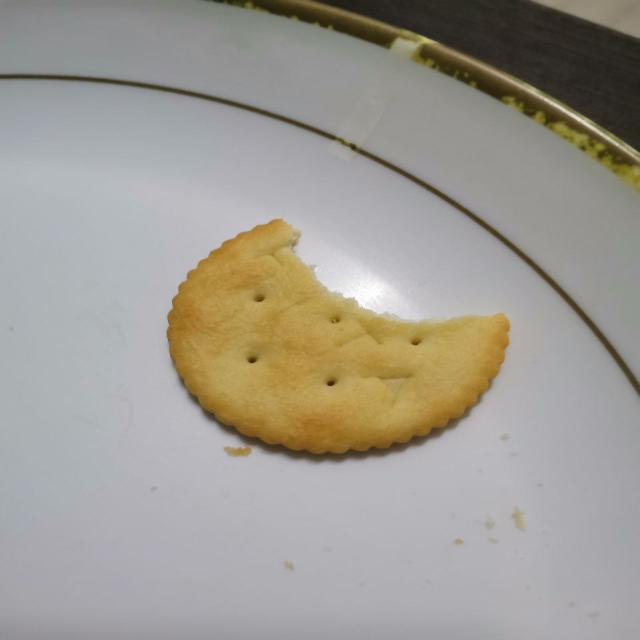broken biscuit: (164, 216, 512, 456)
